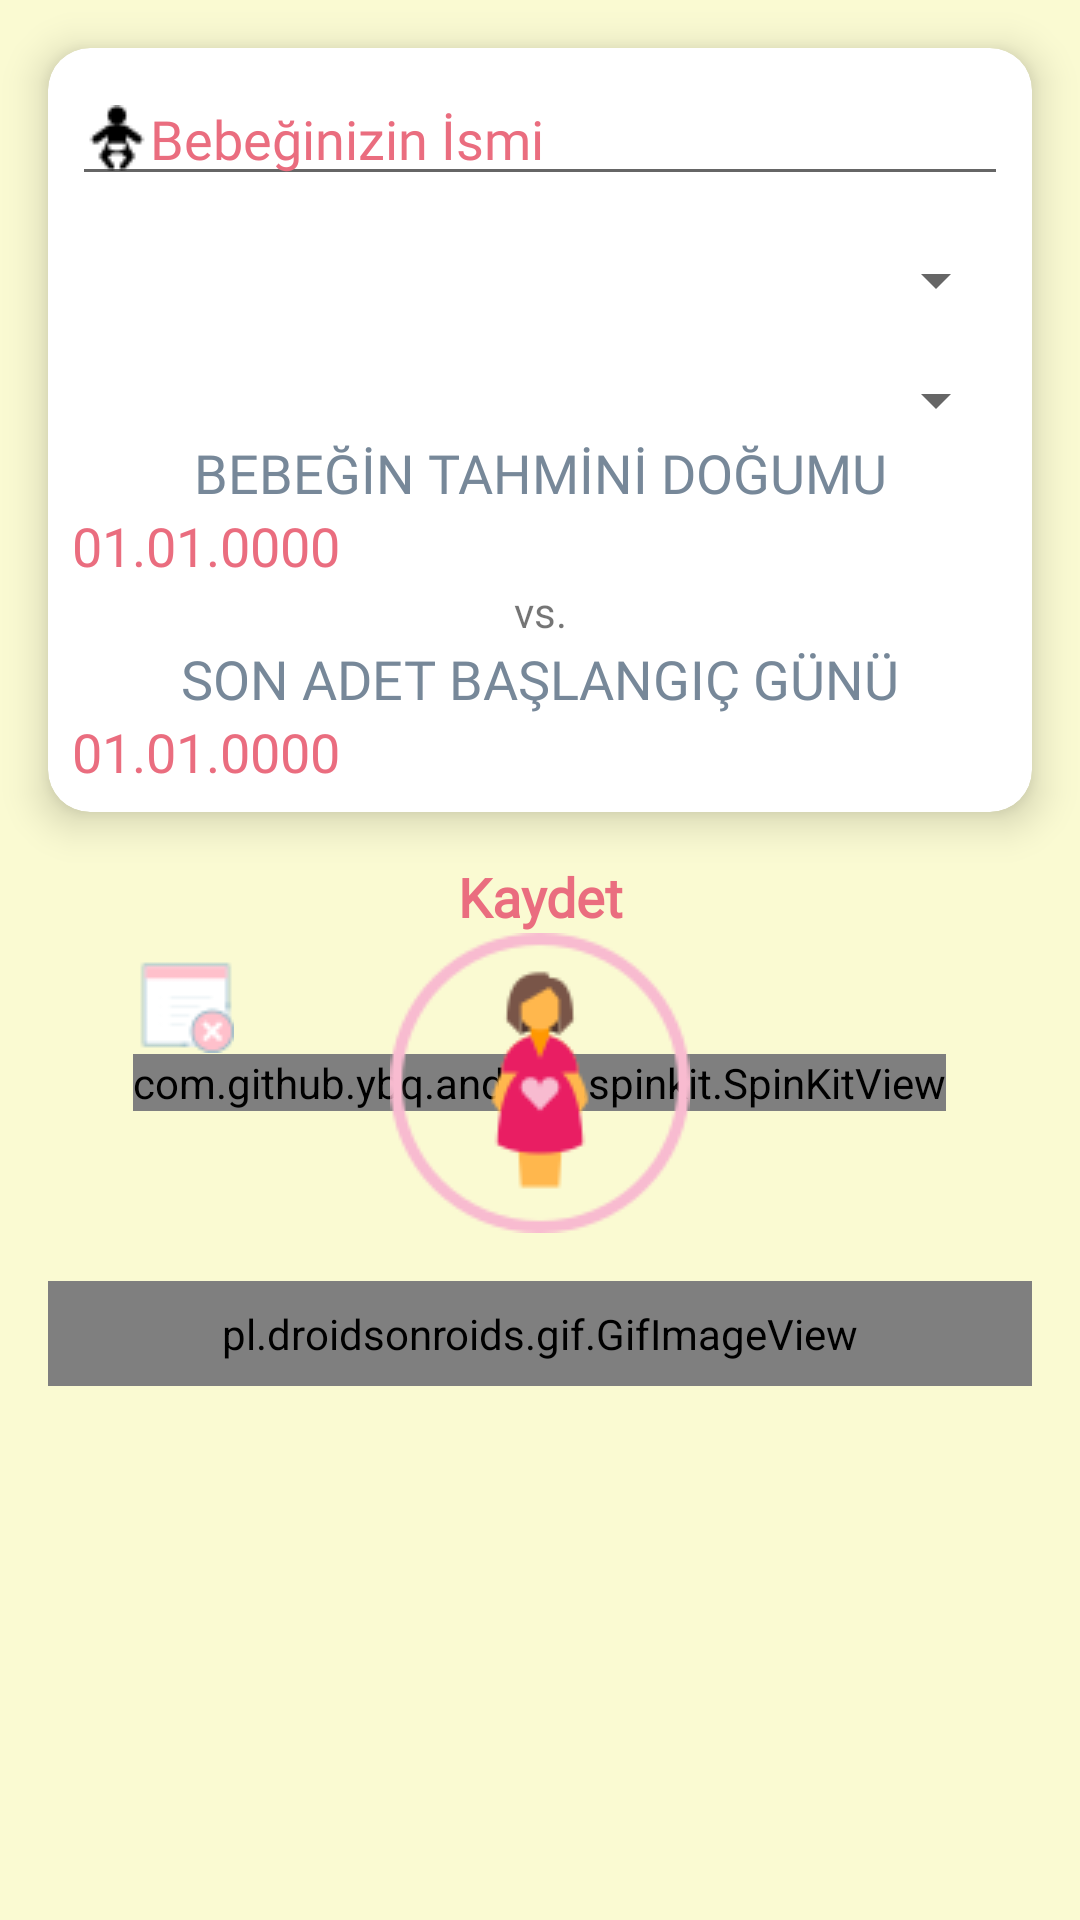

Icon click points for this 1080x1920 phone screenshot, format (x=x, y=y):
hamile: (x=540, y=1083)
